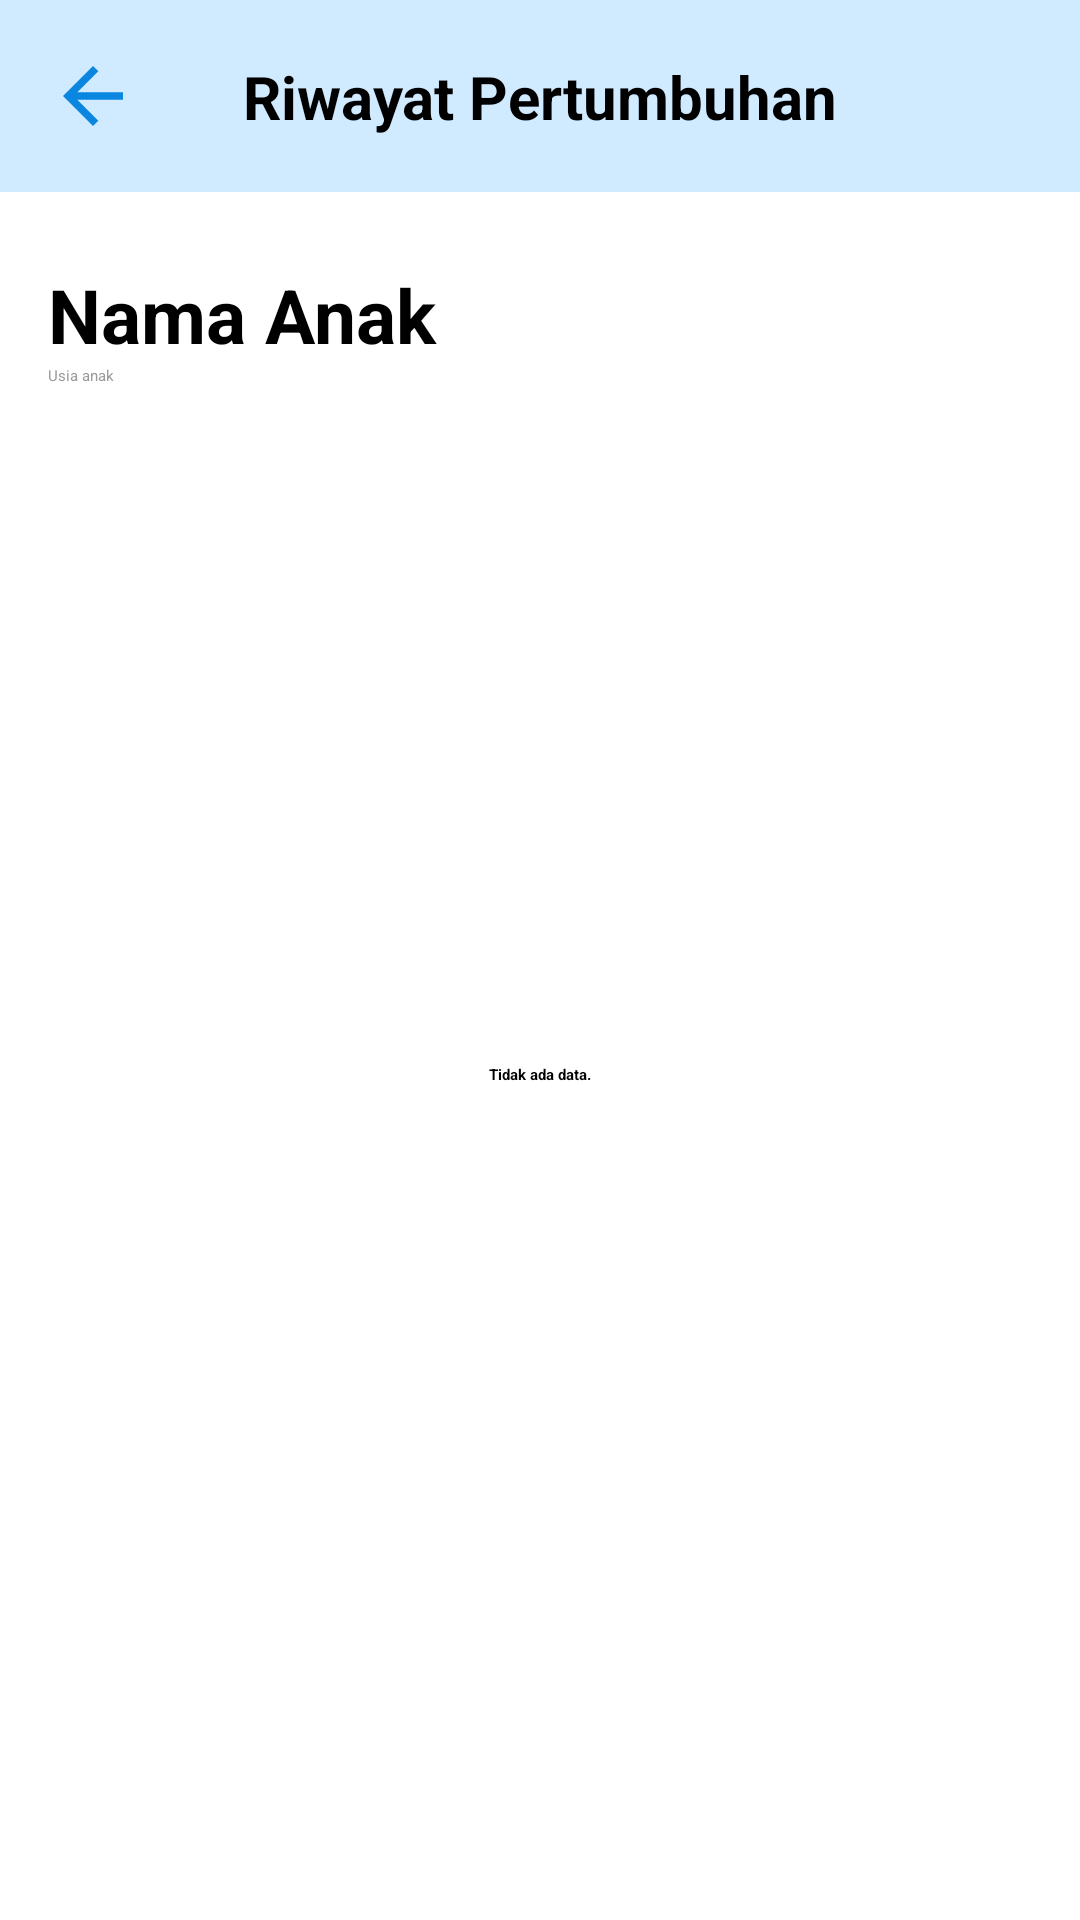

Where to tap for icons on this 1080px×1920px app screen, as (x=x, y=y):
arrow back: (x=93, y=96)
